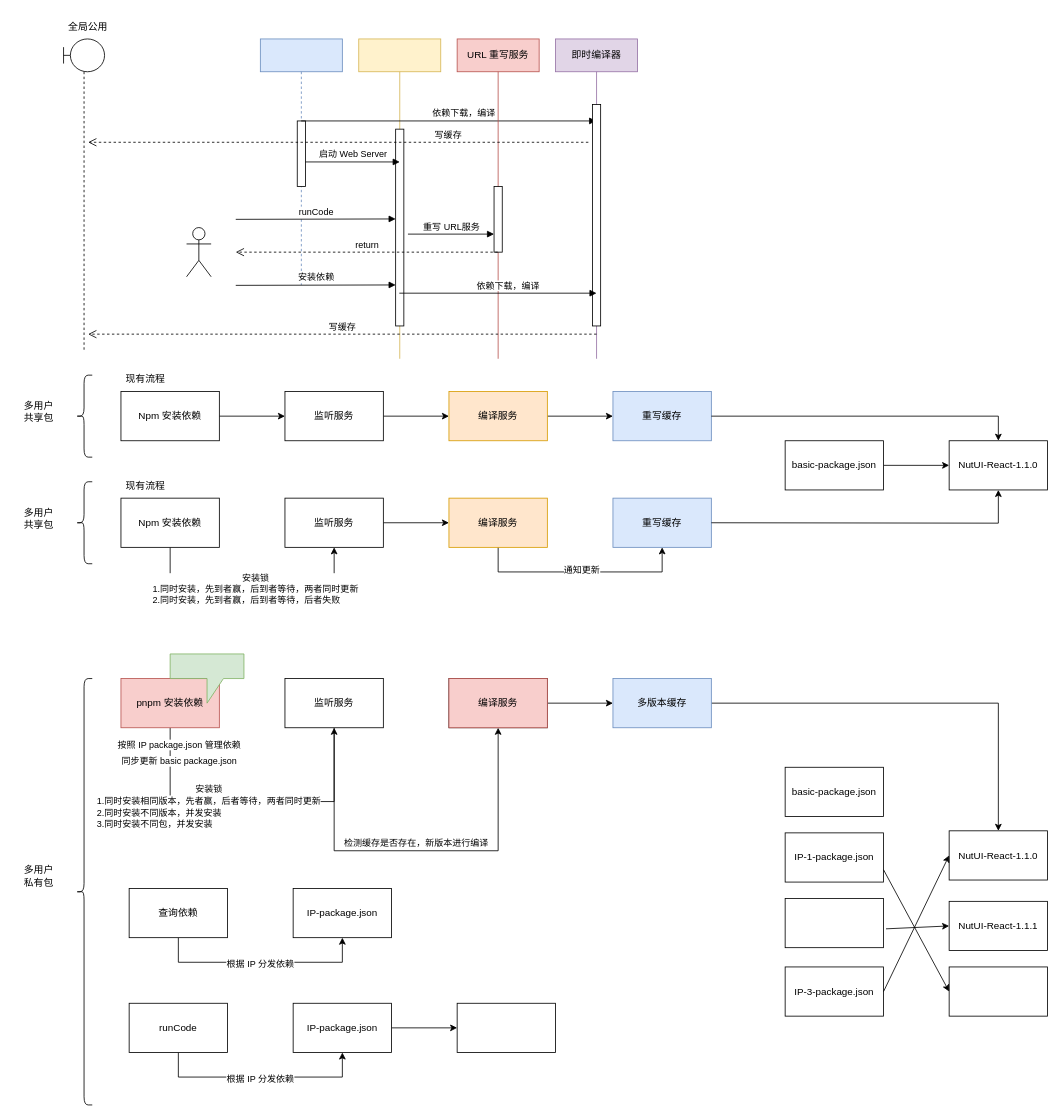
Some shapes in this 1062 by 1119 pixel diagram are drawn without their labels. Each missing label, with the box of its shape:
Actor: (186, 227, 211, 277)
IP-2-package.json: (784, 898, 884, 948)
NutUI-React-1.1.2: (948, 966, 1048, 1016)
Server: (358, 38, 441, 359)
启动阶段: (260, 38, 342, 285)
编译缓存: (63, 38, 105, 351)
节省磁盘空间: (169, 653, 244, 703)
重写 URL: (456, 1002, 556, 1052)
